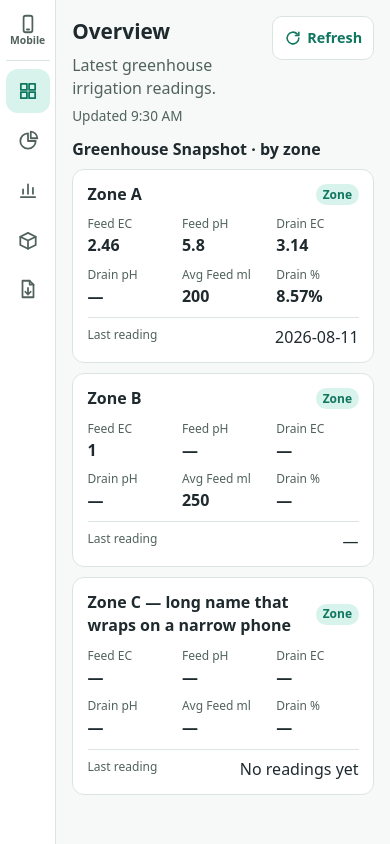
Scenario: Overview › keeps the last data on screen, marked stale, when a refresh fails
Expected: the list named "Greenhouse Snapshot" is shown, [72, 169, 374, 795]
Click the button "Refresh": {"x": 323, "y": 38} [272, 16, 374, 60]
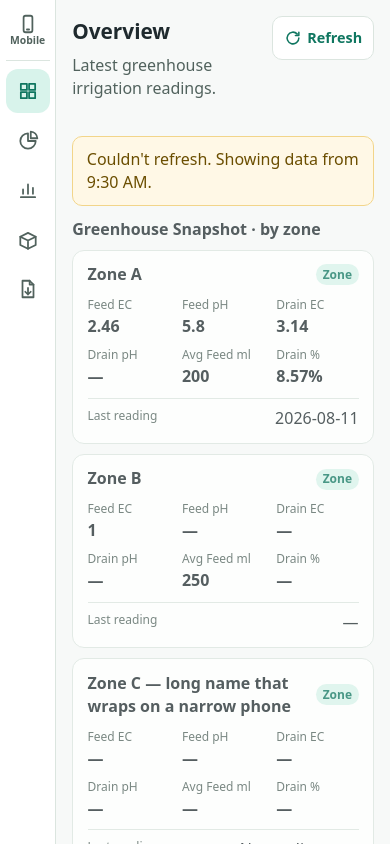
Now the message "Couldn't refresh. Showing data from 9:30 AM." is shown, box [72, 136, 374, 206]
Click the button "Refresh": {"x": 323, "y": 38} [272, 16, 374, 60]
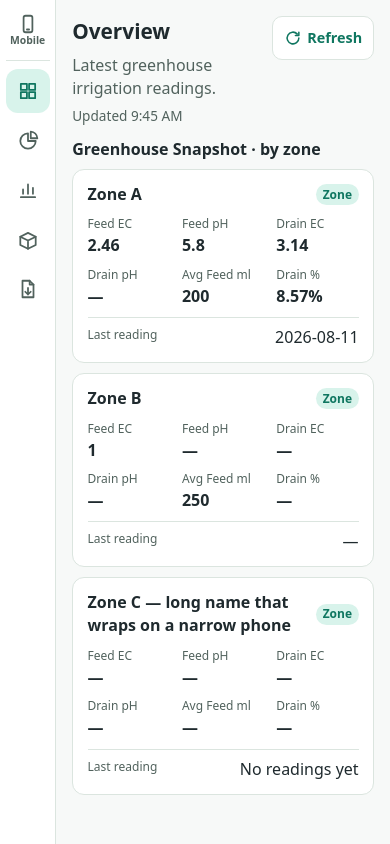
Now the message reads "Updated 9:45 AM", box [72, 106, 182, 125]
Now the message "Couldn't refresh. Showing data from 9:30 AM." is gone
